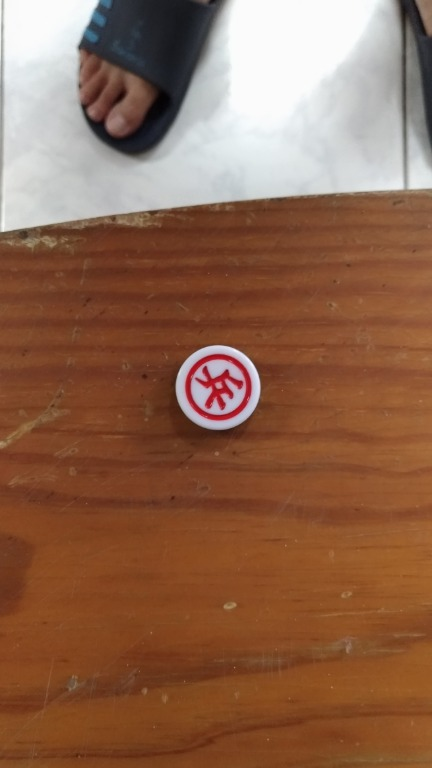r-pawn: (165, 338, 293, 442)
